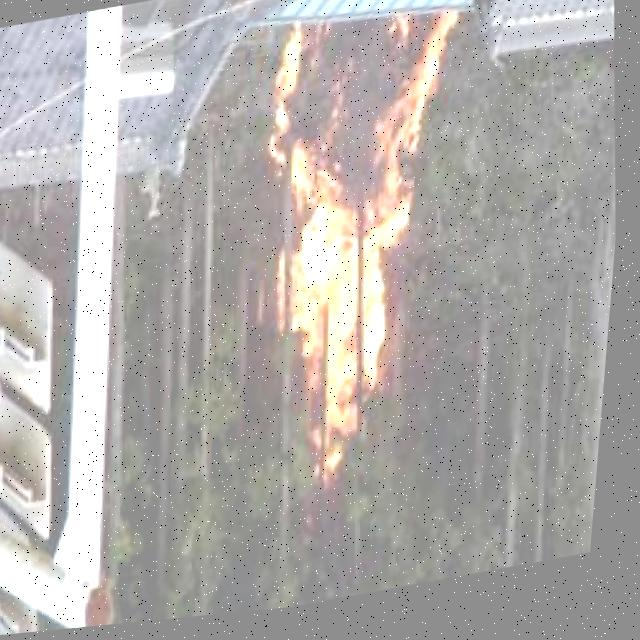Fire: (237, 1, 487, 492)
